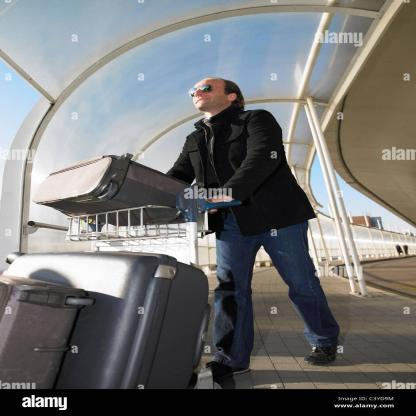airport-trolley: (0, 191, 248, 390)
